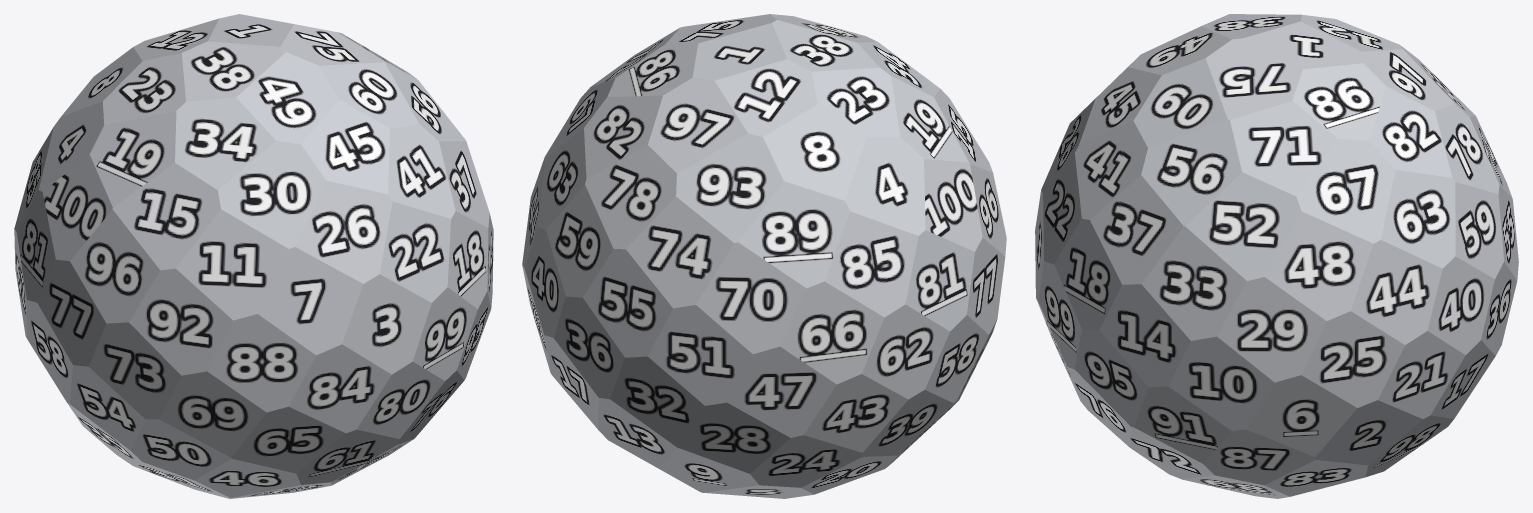
Rendered from zocchihedron.glb.
3 renders of one model, left to right at view 1: azimuth 30°, elevation 25°; view 2: azimuth 150°, elevation 25°; view 3: azimuth 270°, elevation 25°, orthographic.
Parts seen in each view (by area): view 1: zocchihedron; view 2: zocchihedron; view 3: zocchihedron.
Boxes of the visible parts, x1,y1,x2,y2 form: zocchihedron: [14, 14, 493, 498]; zocchihedron: [522, 14, 1006, 498]; zocchihedron: [1035, 14, 1518, 498].
Size of the model in its own units: 2.04 by 2.05 by 2.04.
1 material, 1 textured.
